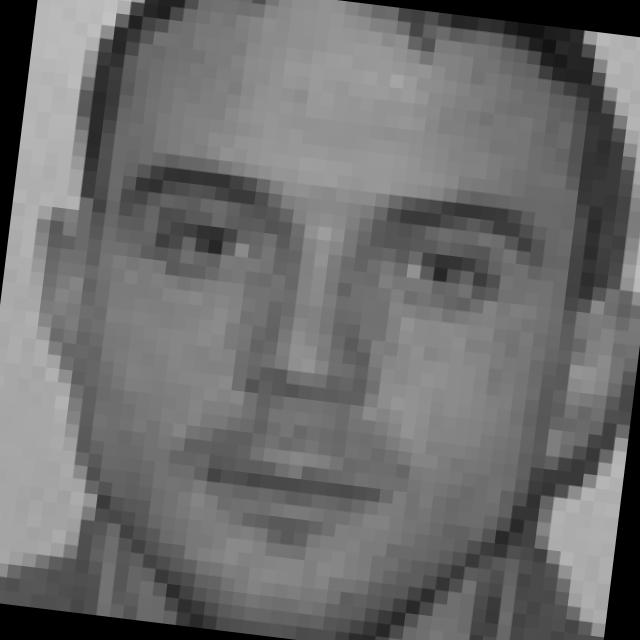neutral: (76, 148, 563, 582)
